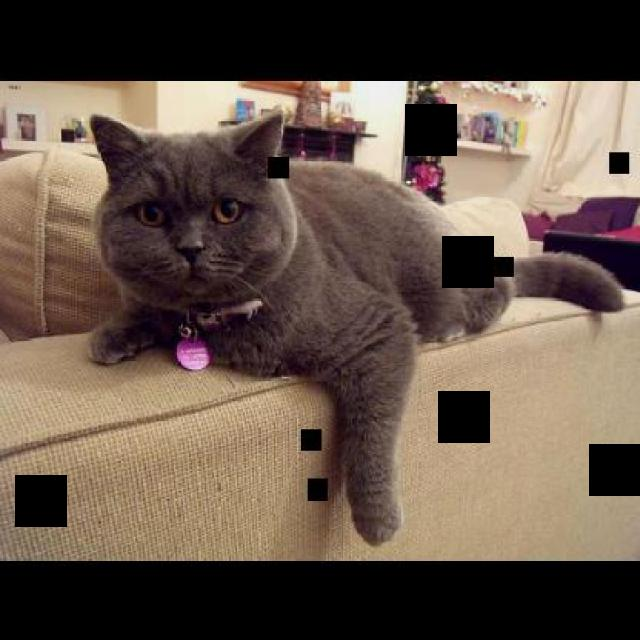unauthorized: (85, 108, 626, 546)
